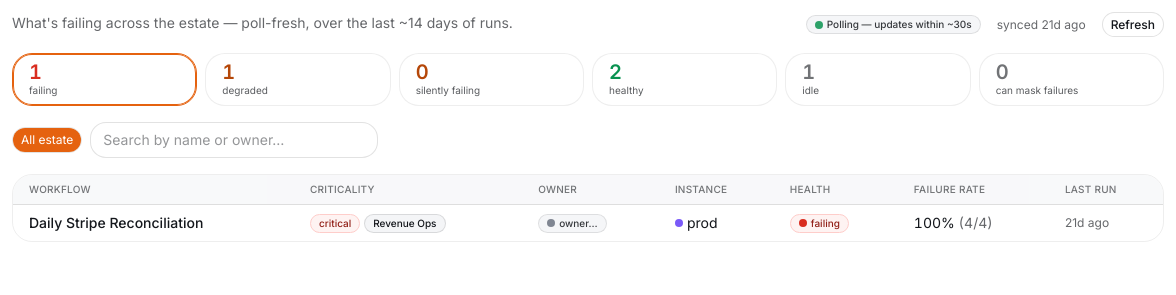
Health view — UI-presence (rule 11) › summary tiles are clickable filters — every state (incl. healthy/idle) browses its list
The image size is (1176, 295).
Expected: the element with test id "health-failing-list" shows "Daily Stripe Reconciliation", [29,214,203,231]
// Click "healthy" → the list switches to the healthy workflows (browsable now).
Click the button "2 healthy" at coordinates (685, 80), box [592,53,777,106]
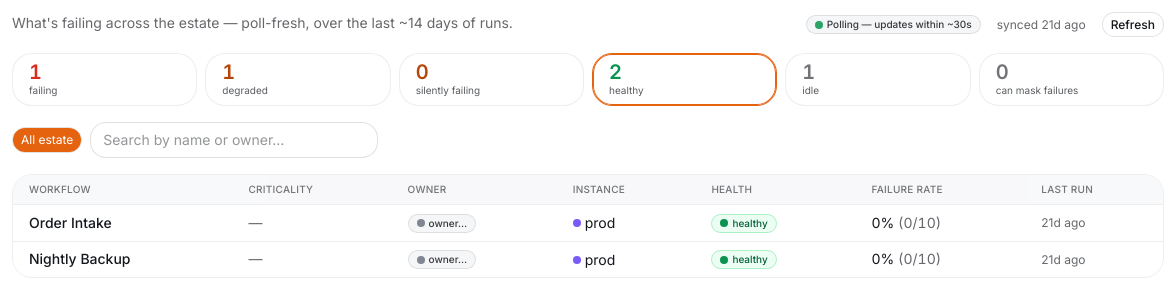
Now the element with test id "health-failing-list" shows "Order Intake", box [29,214,112,231]
Now the cell with test id "health-failing-list" no longer shows "Daily Stripe Reconciliation"
// Click "idle" → the idle set, which failing-only used to hide entirely.
Click the button "1 idle" at coordinates (878, 80), box [785,53,971,106]
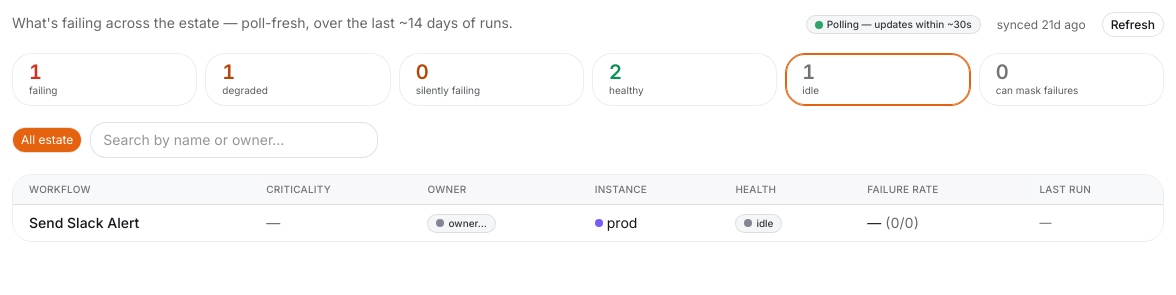
Now the element with test id "health-failing-list" shows "Send Slack Alert", box [29,214,139,231]
